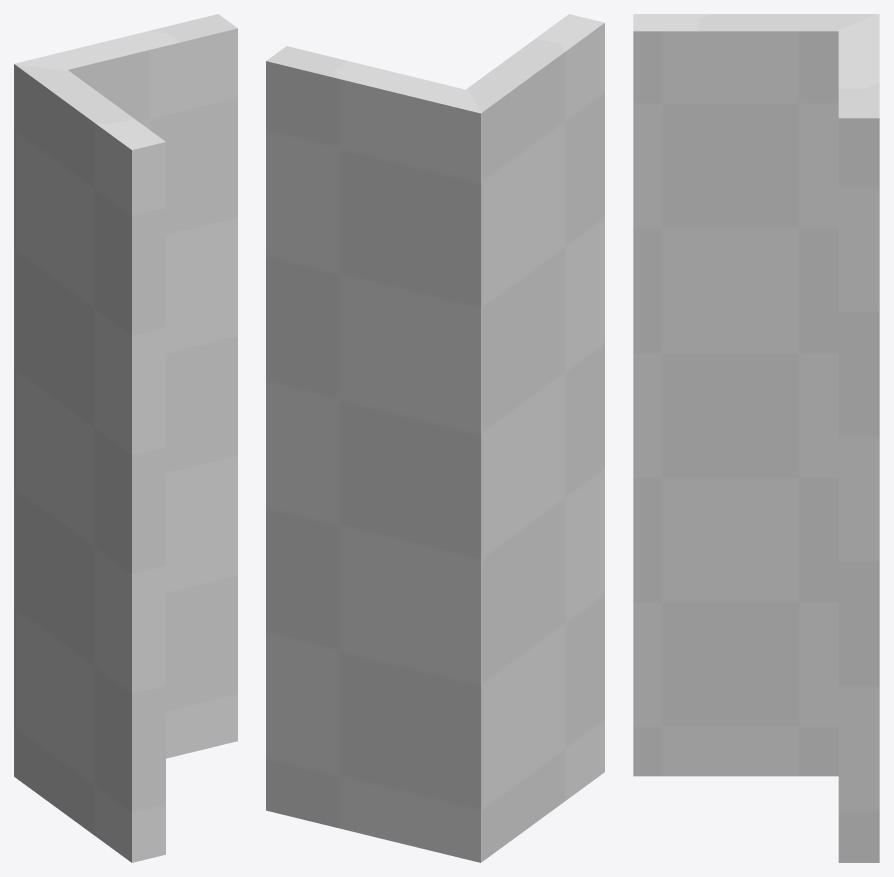
The model's file is enginehall_end_corner_left.fbx.
3 views of the same model, side by side, from view 1: azimuth 30°, elevation 25°; view 2: azimuth 150°, elevation 25°; view 3: azimuth 270°, elevation 25° (orthographic). The views are drawn at different scales.
Visible parts, largest first — view 1: enginehall_end_corner_left; view 2: enginehall_end_corner_left; view 3: enginehall_end_corner_left.
Boxes of the visible parts, x1,y1,x2,y2 form: enginehall_end_corner_left: (14,14,237,862); enginehall_end_corner_left: (266,14,604,862); enginehall_end_corner_left: (633,14,879,862).
Bounding box in the file's own units: 120 × 400 × 120.
